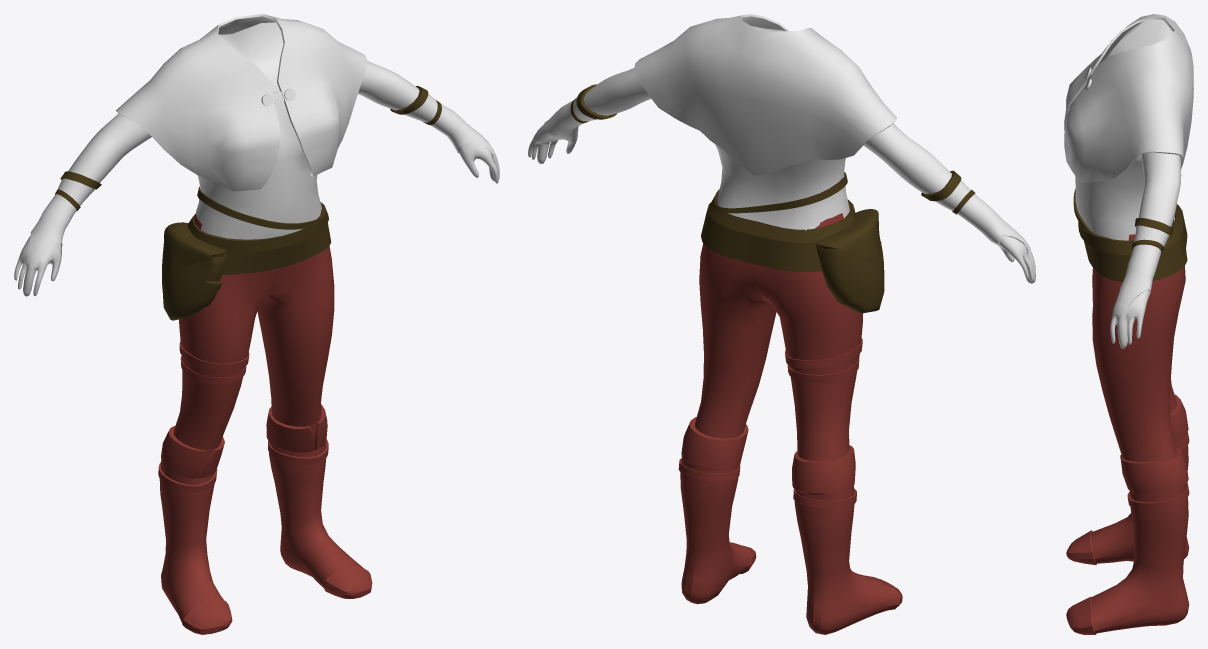
The model's file is corps.fbx.
The picture shows the model from 3 angles, left to right: view 1: azimuth 30°, elevation 25°; view 2: azimuth 150°, elevation 25°; view 3: azimuth 270°, elevation 25°; orthographic projection. The views are drawn at different scales.
Visible parts, largest first — view 1: heroin_low; view 2: heroin_low; view 3: heroin_low.
Boxes of the visible parts, x1,y1,x2,y2 form: heroin_low: (14,14,499,634); heroin_low: (528,14,1035,634); heroin_low: (1064,14,1193,634).
Size of the model in its own units: 210 by 236 by 49.12.
